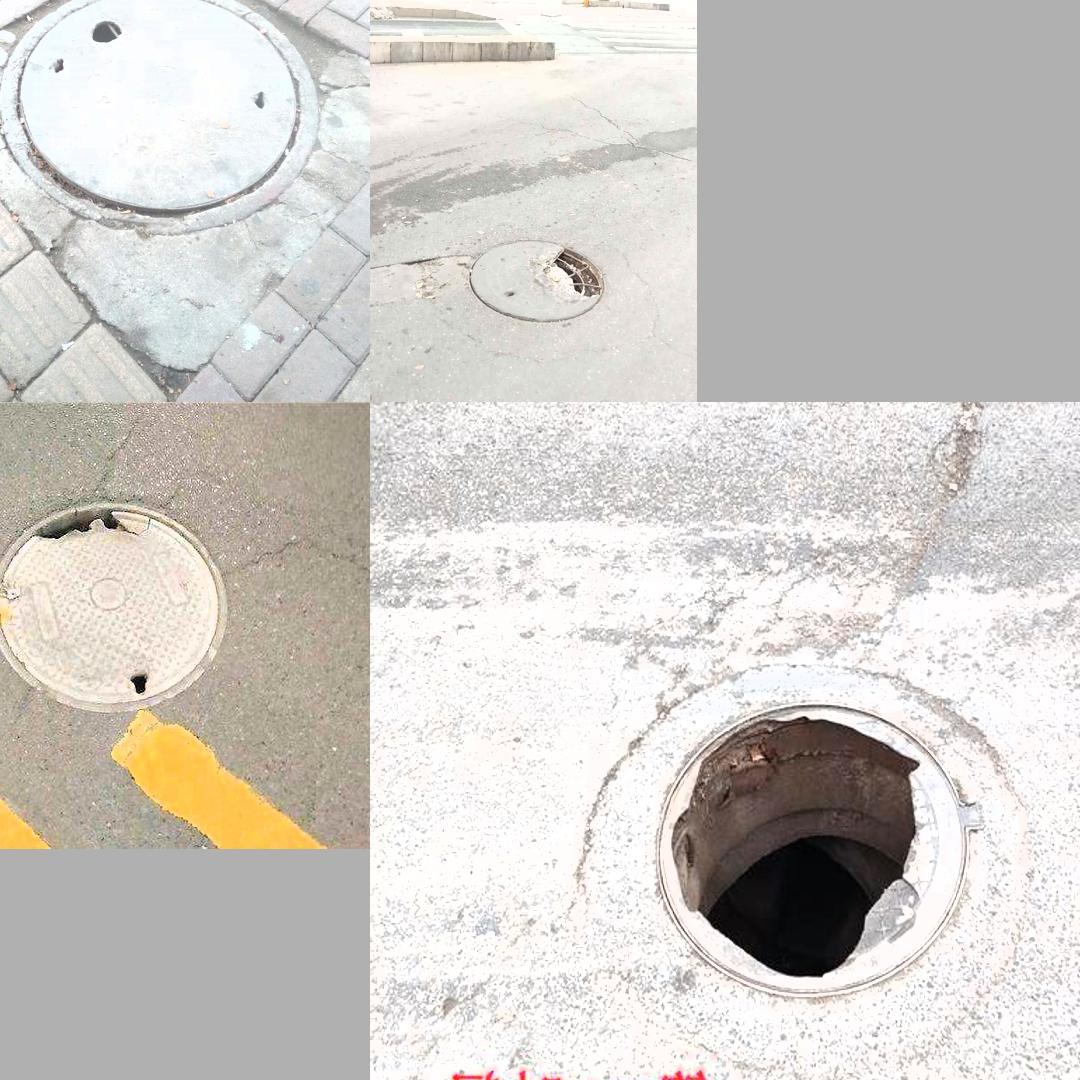broke: (563, 658, 1030, 1072), (0, 0, 322, 236), (0, 502, 227, 712), (469, 240, 605, 321)
